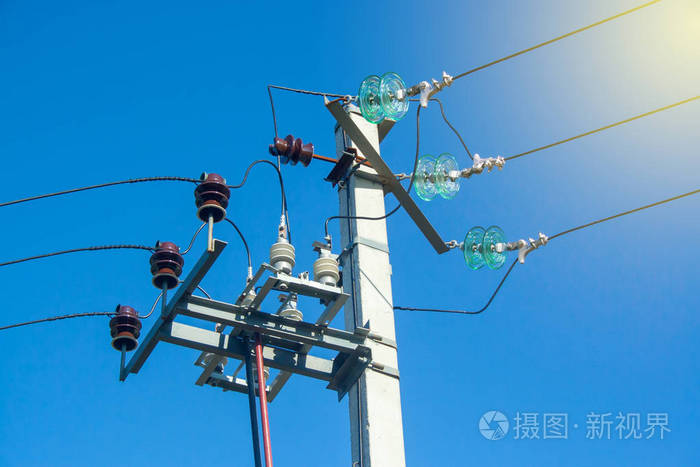insulator: (413, 151, 461, 201), (359, 71, 406, 122), (462, 222, 506, 273), (144, 247, 187, 290), (190, 178, 232, 215), (105, 313, 144, 352), (272, 134, 308, 171)
